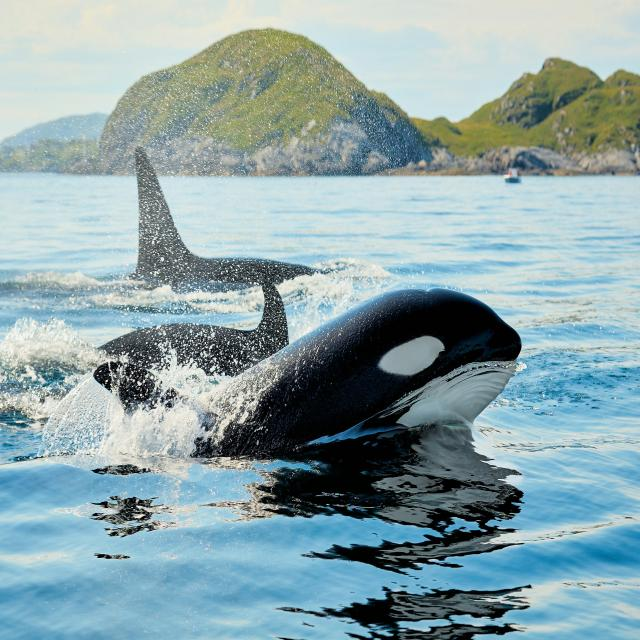ballena: (94, 288, 521, 457), (100, 147, 315, 385), (135, 148, 315, 285)
